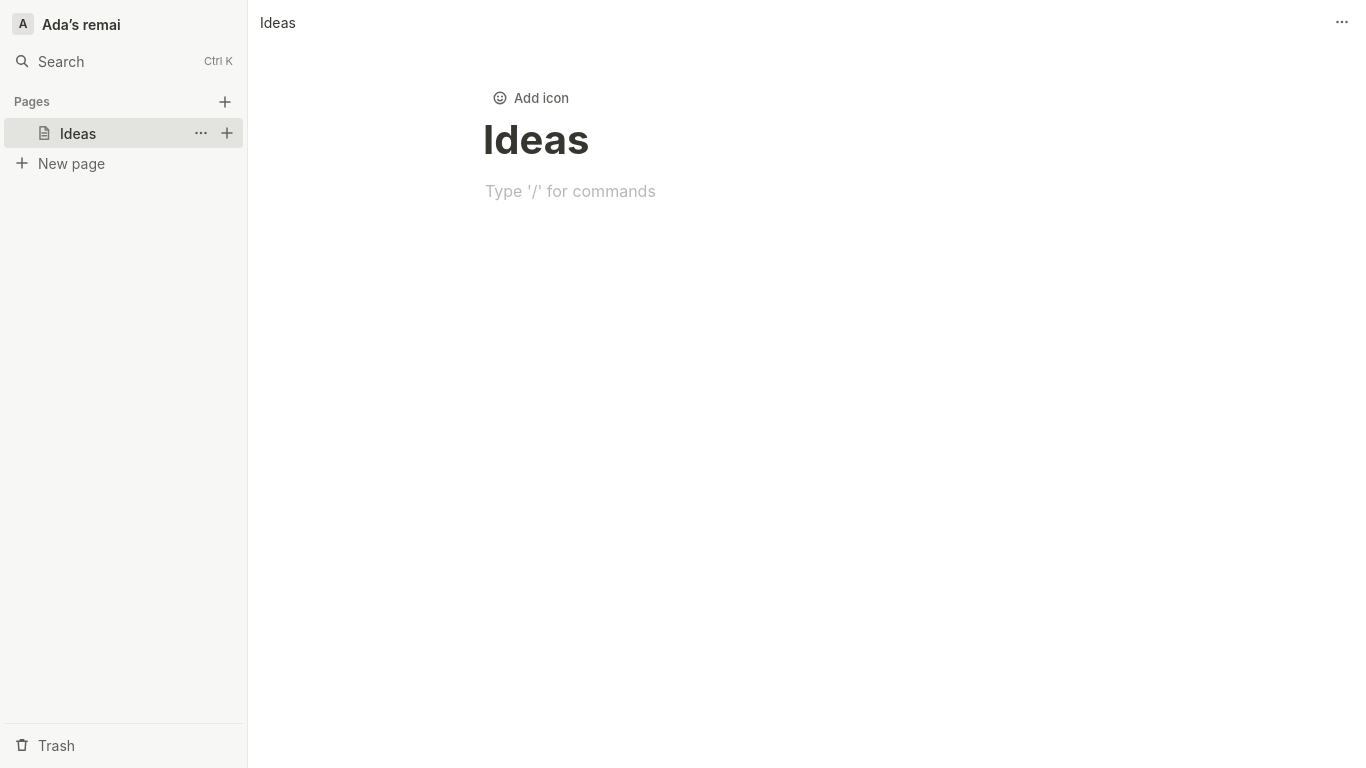
Test: Page header and autosave › Rename from the header: the sidebar entry and the browser tab show the new title once saved
Replace the text in the text box named "Page title" with "Roadmap" at (807, 140), box [483,116,1131,164]
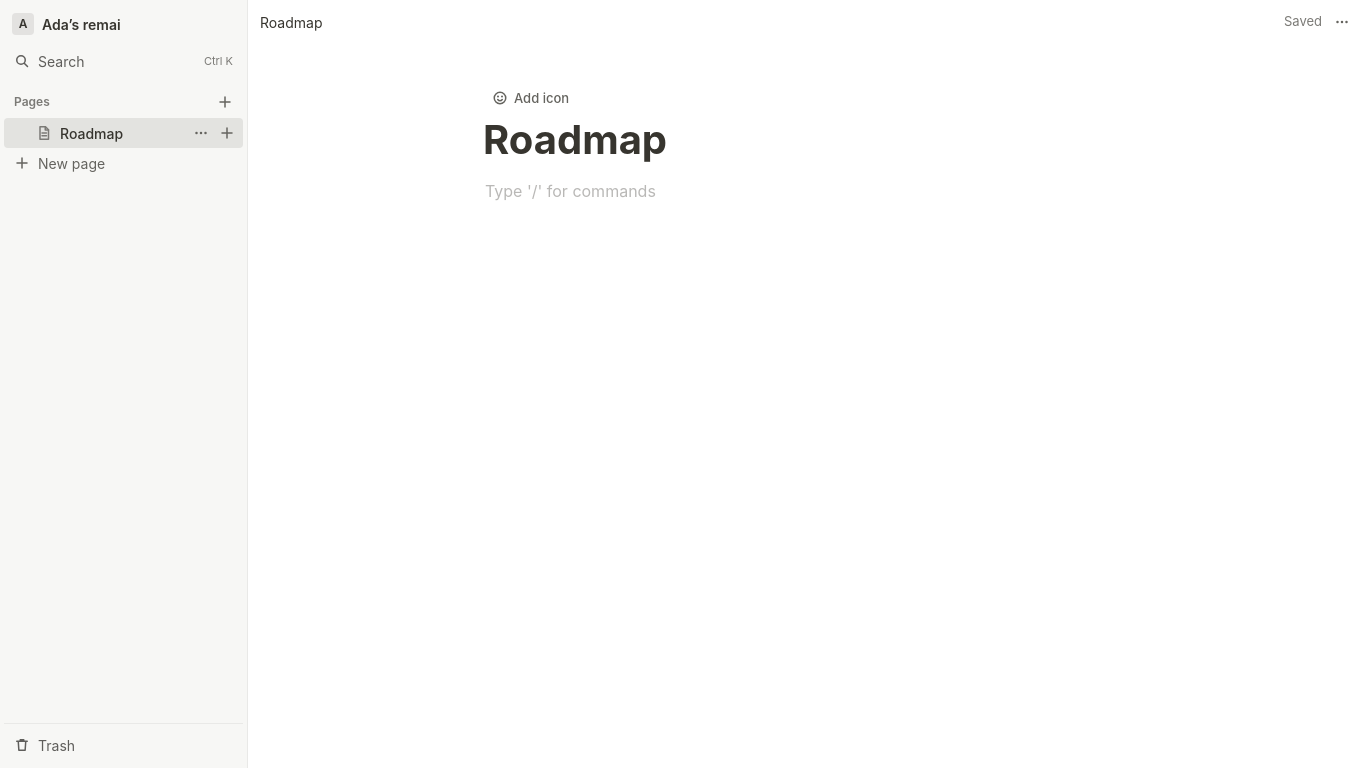
Check: the text "Saved" is shown, box [1284,12,1322,32]
Check: the text "Roadmap" is shown, box [60,122,123,144]
Check: the link "Roadmap" is shown, box [36,124,123,142]
